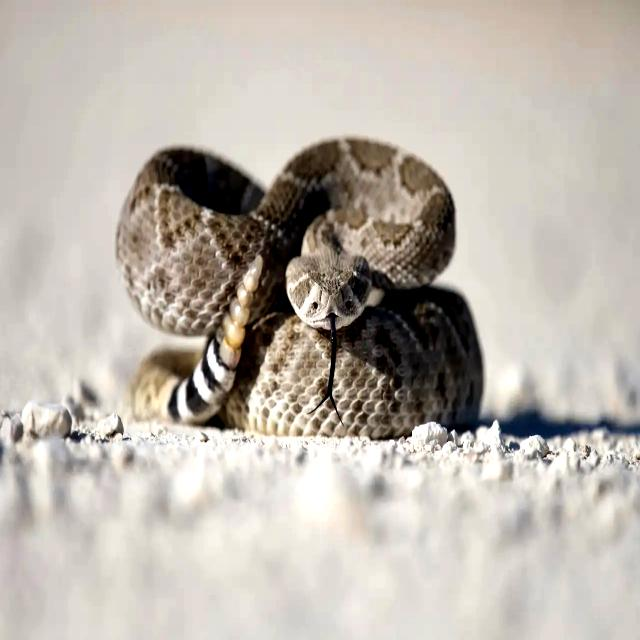Calloselasma rhodostoma: (116, 138, 482, 438)
